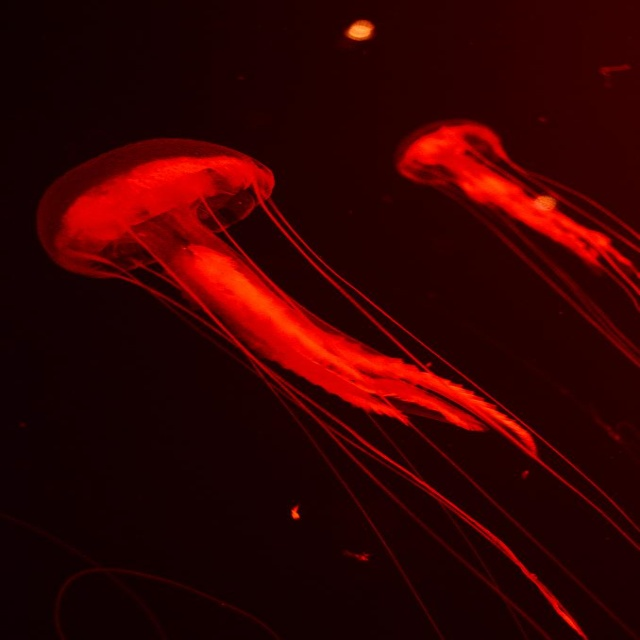Jellyfish: (33, 132, 639, 639), (390, 117, 639, 366)
